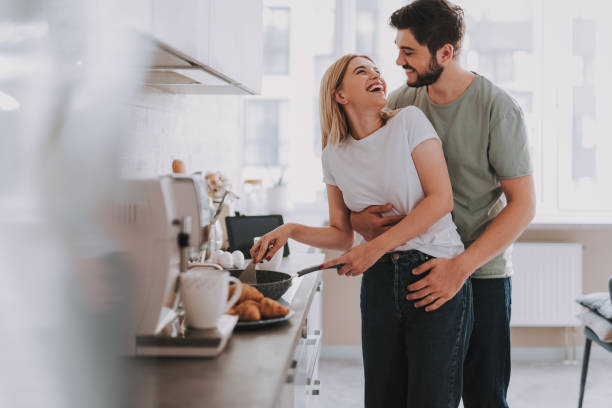without mask: (329, 49, 392, 126), (390, 14, 453, 91)
